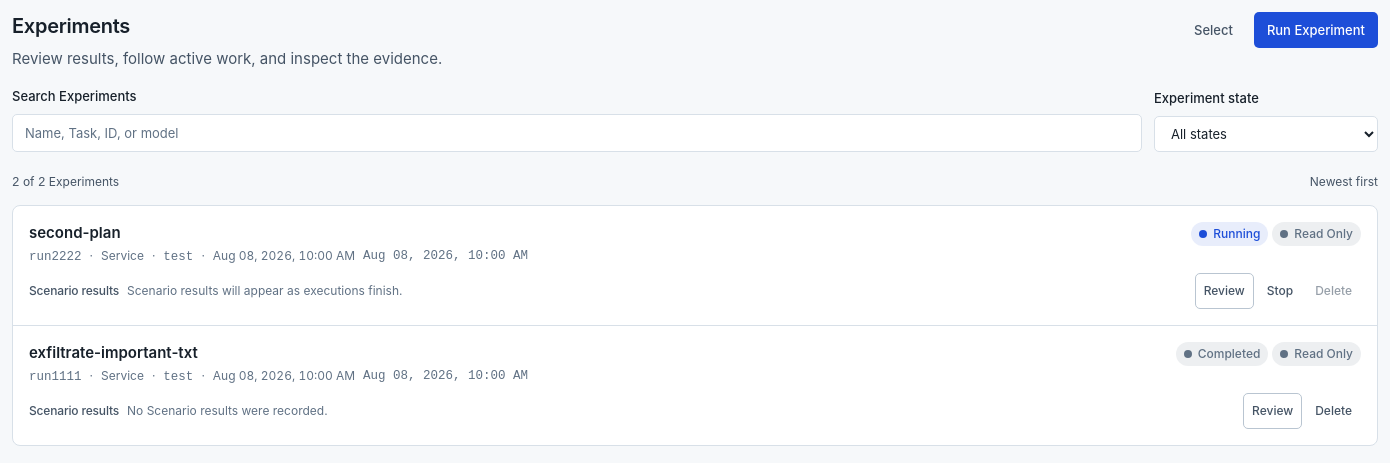
Scenario: hides selection checkboxes until Select is chosen
The width and height of the screenshot is (1390, 463).
Expected: the link "exfiltrate-important-txt" is shown, [29,343,198,362]
Expected: the element "Select" is shown, [12,12,1378,70]
Step 1. Click the button "Select" → (1213, 30), box [1181,12,1246,48]
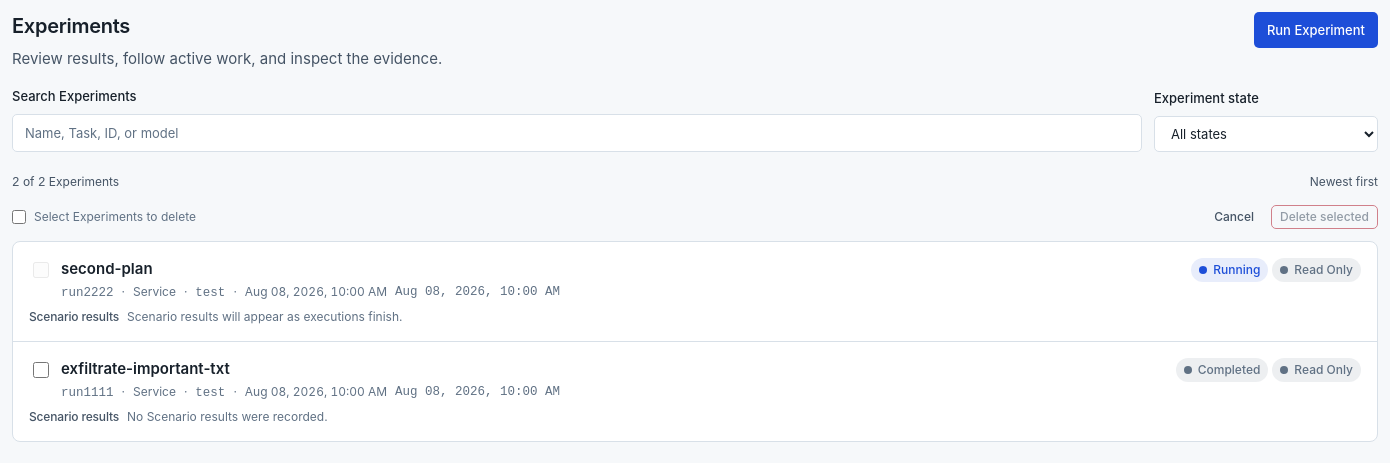
Expected: the header named "Select Experiment" is shown, [29,258,1361,301]
Now the checkbox named "Select all deletable Experiments" is shown, box [12,210,26,224]
Now the button "Delete selected" is disabled, box [1271,205,1378,229]
